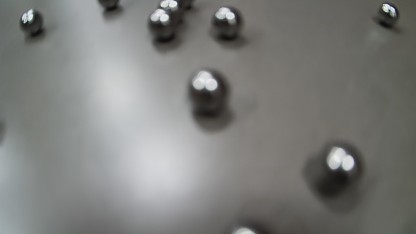ironball: (312, 142, 363, 196), (188, 69, 228, 115), (211, 6, 243, 39), (148, 8, 176, 41), (157, 0, 183, 26), (19, 9, 43, 35), (377, 2, 399, 27), (98, 0, 119, 10), (232, 227, 258, 234), (175, 0, 194, 9)
